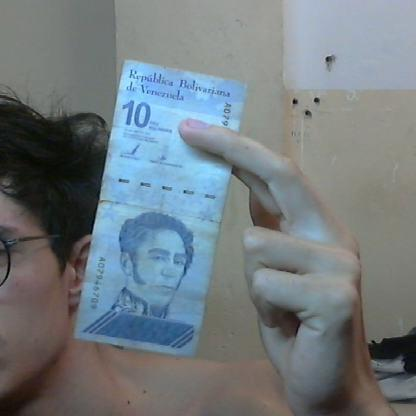ten-front-vef: (74, 58, 248, 360)
